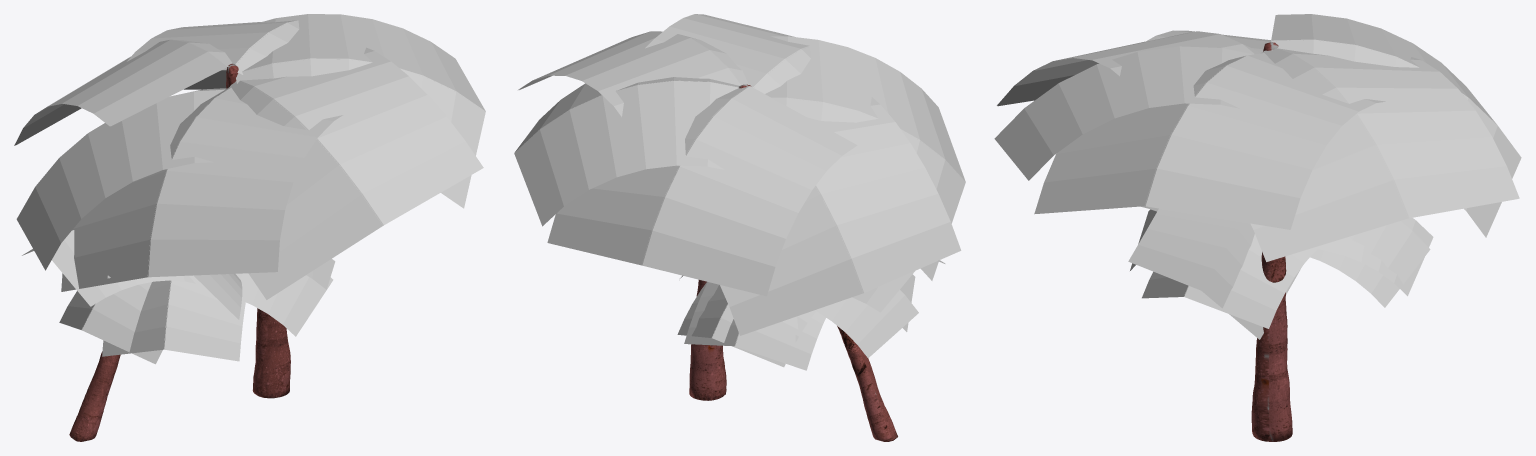
File: Tree.fbx
3 views of the same model, side by side, from view 1: azimuth 30°, elevation 25°; view 2: azimuth 150°, elevation 25°; view 3: azimuth 270°, elevation 25° (orthographic). The views are drawn at different scales.
Visible parts, largest first — view 1: Leaf Group 01, Leaf group 02, Coconut Tree LP, Coconut tree 02 LP; view 2: Leaf Group 01, Leaf group 02, Coconut tree 02 LP, Coconut Tree LP; view 3: Leaf Group 01, Leaf group 02, Coconut Tree LP.
Boxes of the visible parts, x1,y1,x2,y2 form: Leaf Group 01: (14, 14, 485, 299); Leaf group 02: (22, 230, 335, 364); Coconut Tree LP: (226, 63, 290, 398); Coconut tree 02 LP: (69, 351, 120, 441); Leaf Group 01: (514, 14, 965, 335); Leaf group 02: (677, 260, 945, 370); Coconut tree 02 LP: (837, 326, 897, 441); Coconut Tree LP: (689, 84, 751, 400); Leaf Group 01: (994, 14, 1521, 261); Leaf group 02: (1128, 206, 1433, 339); Coconut Tree LP: (1251, 42, 1292, 441).
Bounding box in the file's own units: 1369 × 1021 × 1292.
